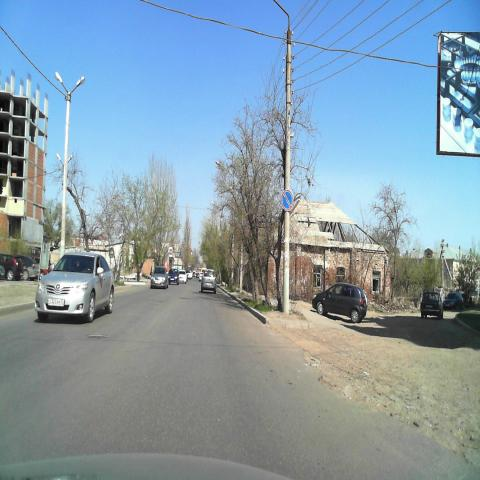3_28: (280, 189, 294, 211)
